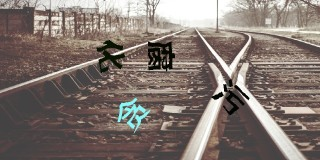化: (96, 39, 125, 73)
污: (212, 79, 249, 115)
腐: (146, 41, 176, 72)
贪: (117, 97, 151, 133)
